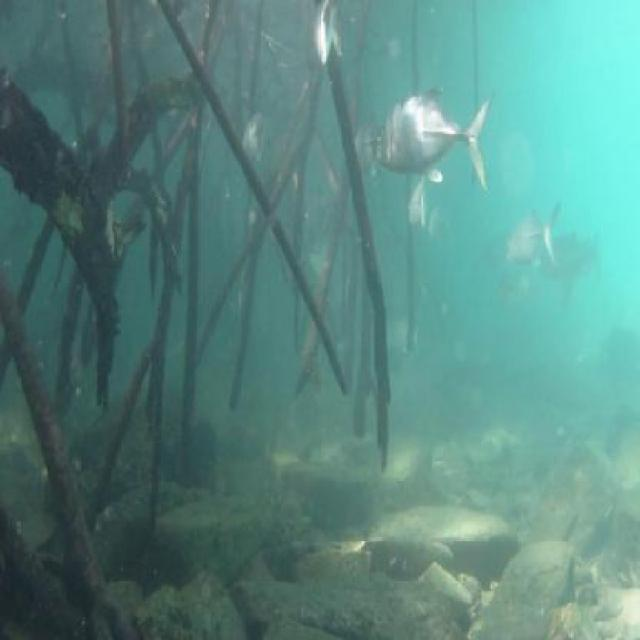Caranx_sexfasciatus_juvenile: (375, 76, 491, 186), (539, 230, 606, 304), (504, 206, 559, 282), (288, 216, 337, 287), (303, 0, 343, 74), (380, 299, 426, 363), (236, 99, 273, 164), (500, 262, 537, 327), (402, 173, 428, 238)
